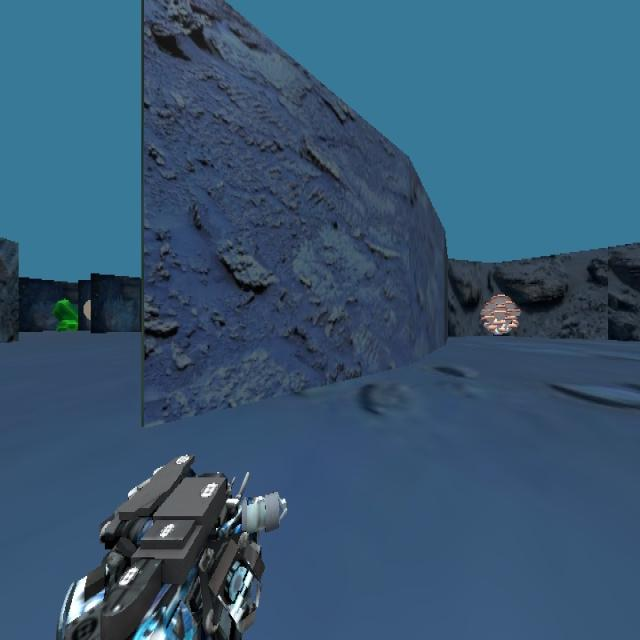Circle: (82, 286, 104, 328)
Diamon: (36, 266, 78, 336)
Mushroom: (479, 291, 521, 336)
